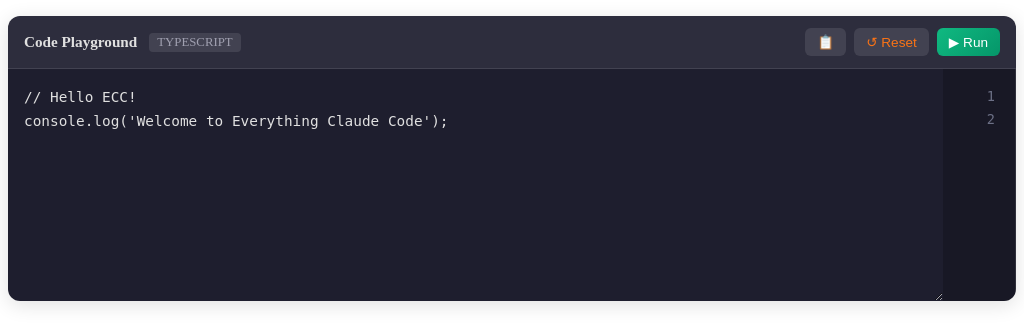
Test case: CodePlayground Component › 🔴 RED: Interactive Features › should reset code to initial state
The width and height of the screenshot is (1024, 326).
Replace the text in the text box with "modified code": (476, 185) [8,69,943,301]
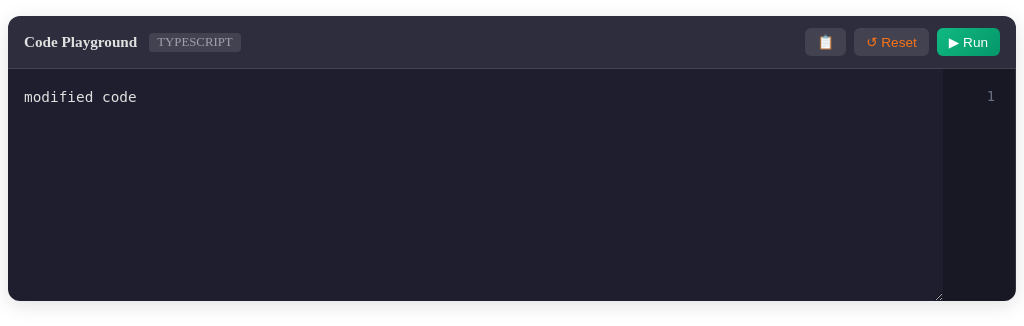
Click the button "↺ Reset": click(891, 42) [854,28,929,56]
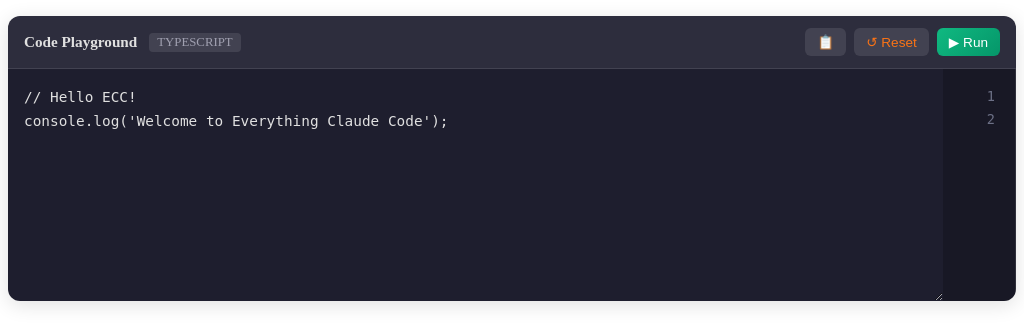
Now the text box "Hello ECC" is shown
